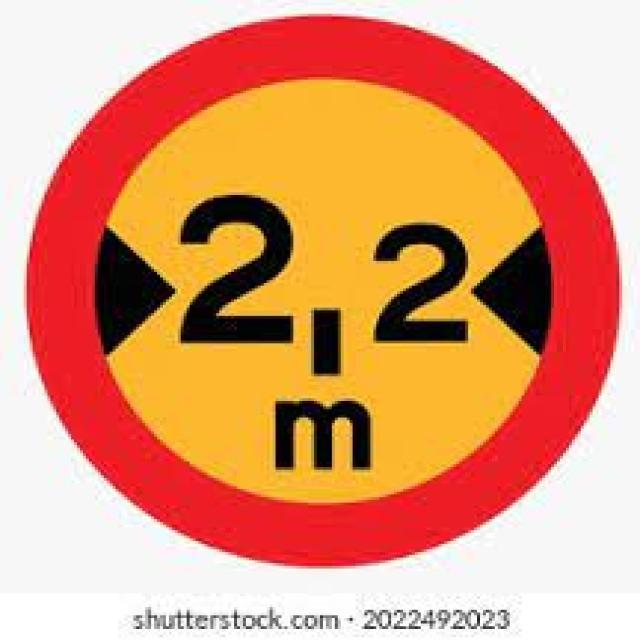width limit: (27, 13, 623, 568)
